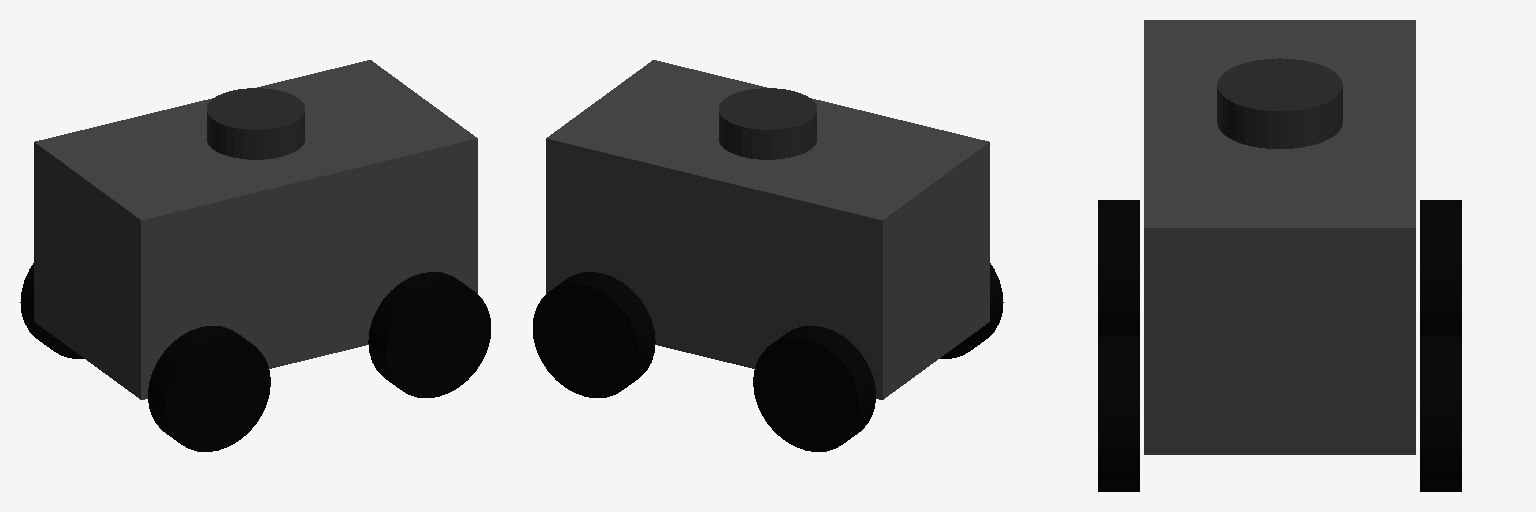
robot.urdf — cobraflex_mav1:
<?xml version="1.0"?>
<robot name="cobraflex_mav1" xmlns:xacro="http://www.ros.org/wiki/xacro">

  <link name="base_footprint">
    <visual>
      <origin xyz="0 0 0" rpy="0 0 0"/>
      <geometry>
        <sphere radius="0.001"/>
      </geometry>
      <material name="invisible">
        <color rgba="0 0 0 0"/>
      </material>
    </visual>
  </link>

  <link name="base_link">

    <inertial>
      <origin xyz="0 0 0.09424" rpy="0 0 0"/>
      <mass value="3"/>
      <inertia ixx="0.00783" ixy="0.0" ixz="0.0"
               iyy="0.01741" iyz="0.0"
               izz="0.01803"/>
    </inertial>

    <visual>
      <origin xyz="0 0 0.09424" rpy="0 0 0"/>
      <geometry>
        <box size="0.235 0.130 0.12"/>
      </geometry>
      <material name="chassis_grey">
        <color rgba="0.3 0.3 0.3 1.0"/>
      </material>
    </visual>

    <collision>
      <origin xyz="0 0 0.09424" rpy="0 0 0"/>
      <geometry>
        <box size="0.235 0.130 0.12"/>
      </geometry>
    </collision>
  </link>


  <joint name="base_footprint_to_base_link" type="fixed">
    <parent link="base_footprint"/>
    <child link="base_link"/>
    <origin xyz="0 0 0" rpy="0 0 0"/>
  </joint>


  <link name="wheel_fl">
    <visual>
      <origin xyz="0 0 0" rpy="1.5708 0 0"/>
      <geometry>
        <cylinder radius="0.03725" length="0.02"/>
      </geometry>
      <material name="wheel_black">
        <color rgba="0.05 0.05 0.05 1.0"/>
      </material>
    </visual>
    <collision>
      <origin xyz="0 0 0" rpy="1.5708 0 0"/>
      <geometry>
        <cylinder radius="0.03725" length="0.02"/>
      </geometry>
    </collision>
    <inertial> 
      <origin xyz="0 0 0" rpy="0 0 0"/>
      <mass value="0.1"/>
      <inertia ixx="0.0001" ixy="0.0" ixz="0.0"
               iyy="0.0001" iyz="0.0"
               izz="0.0001"/>
    </inertial> 
  </link>


  <link name="wheel_fr">
    <visual>
      <origin xyz="0 0 0" rpy="1.5708 0 0"/>
      <geometry>
        <cylinder radius="0.03725" length="0.02"/>
      </geometry>
      <material name="wheel_black"/>
    </visual>
    <collision>
      <origin xyz="0 0 0" rpy="1.5708 0 0"/>
      <geometry>
        <cylinder radius="0.03725" length="0.02"/>
      </geometry>
    </collision>
    <inertial> 
      <origin xyz="0 0 0" rpy="0 0 0"/>
      <mass value="0.1"/>
      <inertia ixx="0.0001" ixy="0.0" ixz="0.0"
               iyy="0.0001" iyz="0.0"
               izz="0.0001"/>
    </inertial>
  </link>

  <link name="wheel_rl">
    <visual>
      <origin xyz="0 0 0" rpy="1.5708 0 0"/>
      <geometry>
        <cylinder radius="0.03725" length="0.02"/>
      </geometry>
      <material name="wheel_black"/>
    </visual>
    <collision>
      <origin xyz="0 0 0" rpy="1.5708 0 0"/>
      <geometry>
        <cylinder radius="0.03725" length="0.02"/>
      </geometry>
    </collision>
    <inertial> 
      <origin xyz="0 0 0" rpy="0 0 0"/>
      <mass value="0.1"/>
      <inertia ixx="0.0001" ixy="0.0" ixz="0.0"
               iyy="0.0001" iyz="0.0"
               izz="0.0001"/>
    </inertial>
  </link>

  <link name="wheel_rr">
    <visual>
      <origin xyz="0 0 0" rpy="1.5708 0 0"/>
      <geometry>
        <cylinder radius="0.03725" length="0.02"/>
      </geometry>
      <material name="wheel_black"/>
    </visual>
    <collision>
      <origin xyz="0 0 0" rpy="1.5708 0 0"/>
      <geometry>
        <cylinder radius="0.03725" length="0.02"/>
      </geometry>
    </collision>
    <inertial> 
      <origin xyz="0 0 0" rpy="0 0 0"/>
      <mass value="0.1"/>
      <inertia ixx="0.0001" ixy="0.0" ixz="0.0"
               iyy="0.0001" iyz="0.0"
               izz="0.0001"/>
    </inertial> 
  </link>


  <joint name="joint_wheel_fl" type="continuous">
    <parent link="base_link"/>
    <child link="wheel_fl"/>
    <origin xyz="0.077 0.077 0.03725" rpy="0 0 0"/>
    <axis xyz="0 1 0"/>
  </joint>


  <joint name="joint_wheel_fr" type="continuous">
    <parent link="base_link"/>
    <child link="wheel_fr"/>
    <origin xyz="0.077 -0.077 0.03725" rpy="0 0 0"/>
    <axis xyz="0 1 0"/>
  </joint>


  <joint name="joint_wheel_rl" type="continuous">
    <parent link="base_link"/>
    <child link="wheel_rl"/>
    <origin xyz="-0.077 0.077 0.03725" rpy="0 0 0"/>
    <axis xyz="0 1 0"/>
  </joint>


  <joint name="joint_wheel_rr" type="continuous">
    <parent link="base_link"/>
    <child link="wheel_rr"/>
    <origin xyz="-0.077 -0.077 0.03725" rpy="0 0 0"/>
    <axis xyz="0 1 0"/>
  </joint>


  <link name="base_laser">
    <visual>
      <origin xyz="0 0 0" rpy="0 0 0"/>
      <geometry>
        <cylinder radius="0.03" length="0.02"/>
      </geometry>
      <material name="rplidar_mat">
        <color rgba="0.2 0.2 0.2 1.0"/>
      </material>
    </visual>
    <collision>
      <origin xyz="0 0 0" rpy="0 0 0"/>
      <geometry>
        <cylinder radius="0.03" length="0.02"/>
      </geometry>
    </collision>
  </link>


  <joint name="base_link_to_laser" type="continuous">
    <parent link="base_link"/>
    <child link="base_laser"/>
    <origin xyz="0 0 0.165" rpy="0 0 0"/>
    <axis xyz="0 0 1"/>
  </joint>


  <link name="zed_camera_link">
    <visual>
      <origin xyz="0 0 0" rpy="0 0 0"/>
      <geometry>
        <box size="0.0305 0.124 0.0265"/>
      </geometry>
      <material name="zedm_mat">
        <color rgba="0 0 0 1.0"/>
      </material>
    </visual>
    <collision>
      <origin xyz="0 0 0" rpy="0 0 0"/>
      <geometry>
        <box size="0.0305 0.124 0.0265"/>
      </geometry>
    </collision>
  </link>

  <joint name="base_link_to_camera" type="fixed">
    <parent link="base_link"/>
    <child link="zed_camera_link"/>
    <origin xyz="0.10 0 0.13" rpy="0 0 0"/>
  </joint>

</robot>

--- Render facts (derived) ---
3 views of the same robot in one strip: view 1: azimuth 30°, elevation 25°; view 2: azimuth 150°, elevation 25°; view 3: azimuth 270°, elevation 25° (orthographic).
Model cobraflex_mav1 with 8 links and 7 joints (5 continuous, 2 fixed), rooted at base_footprint, posed all joints at 0.
Links seen in each view (by area): view 1: base_link, wheel_rr, wheel_fr, base_laser, wheel_rl; view 2: base_link, wheel_rl, wheel_fl, base_laser, wheel_rr; view 3: base_link, base_laser, wheel_fl, wheel_fr, wheel_rl, wheel_rr.
Boxes of the visible links, bbox=[...] form: base_link: bbox=[34, 60, 477, 399]; wheel_rr: bbox=[148, 326, 270, 451]; wheel_fr: bbox=[368, 272, 490, 397]; base_laser: bbox=[207, 88, 304, 159]; wheel_rl: bbox=[20, 263, 83, 358]; base_link: bbox=[546, 60, 989, 399]; wheel_rl: bbox=[753, 326, 875, 451]; wheel_fl: bbox=[533, 272, 655, 397]; base_laser: bbox=[719, 88, 816, 159]; wheel_rr: bbox=[940, 263, 1003, 358]; base_link: bbox=[1144, 20, 1415, 454]; base_laser: bbox=[1217, 58, 1342, 148]; wheel_fl: bbox=[1420, 336, 1461, 491]; wheel_fr: bbox=[1098, 336, 1139, 491]; wheel_rl: bbox=[1420, 200, 1461, 335]; wheel_rr: bbox=[1098, 200, 1139, 335].
Bounding box of the posed robot: 0.235 × 0.174 × 0.176 m (x, y, z).
Geometry: primitives only (box / cylinder / sphere), no mesh files.